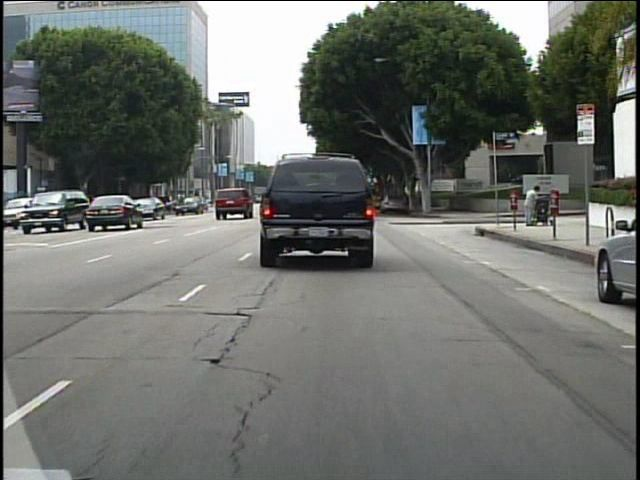person: (521, 179, 542, 230)
